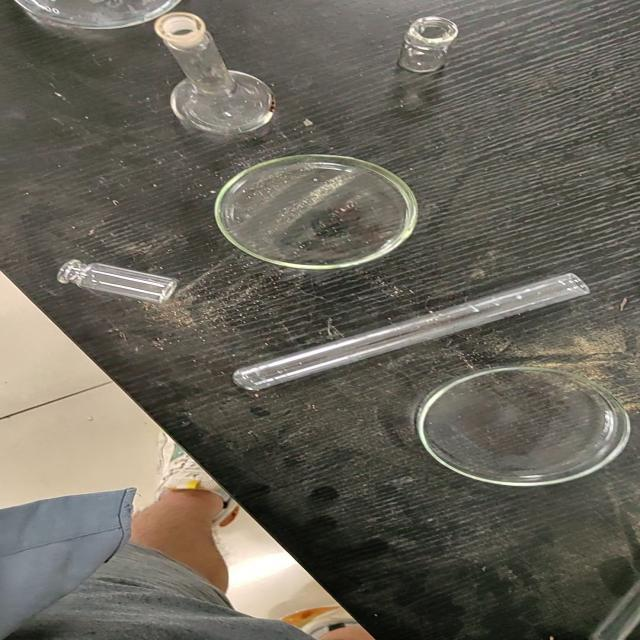bottles: (56, 258, 178, 304)
cardboard: (0, 0, 639, 639)
cups: (153, 10, 275, 135), (397, 14, 458, 73)
